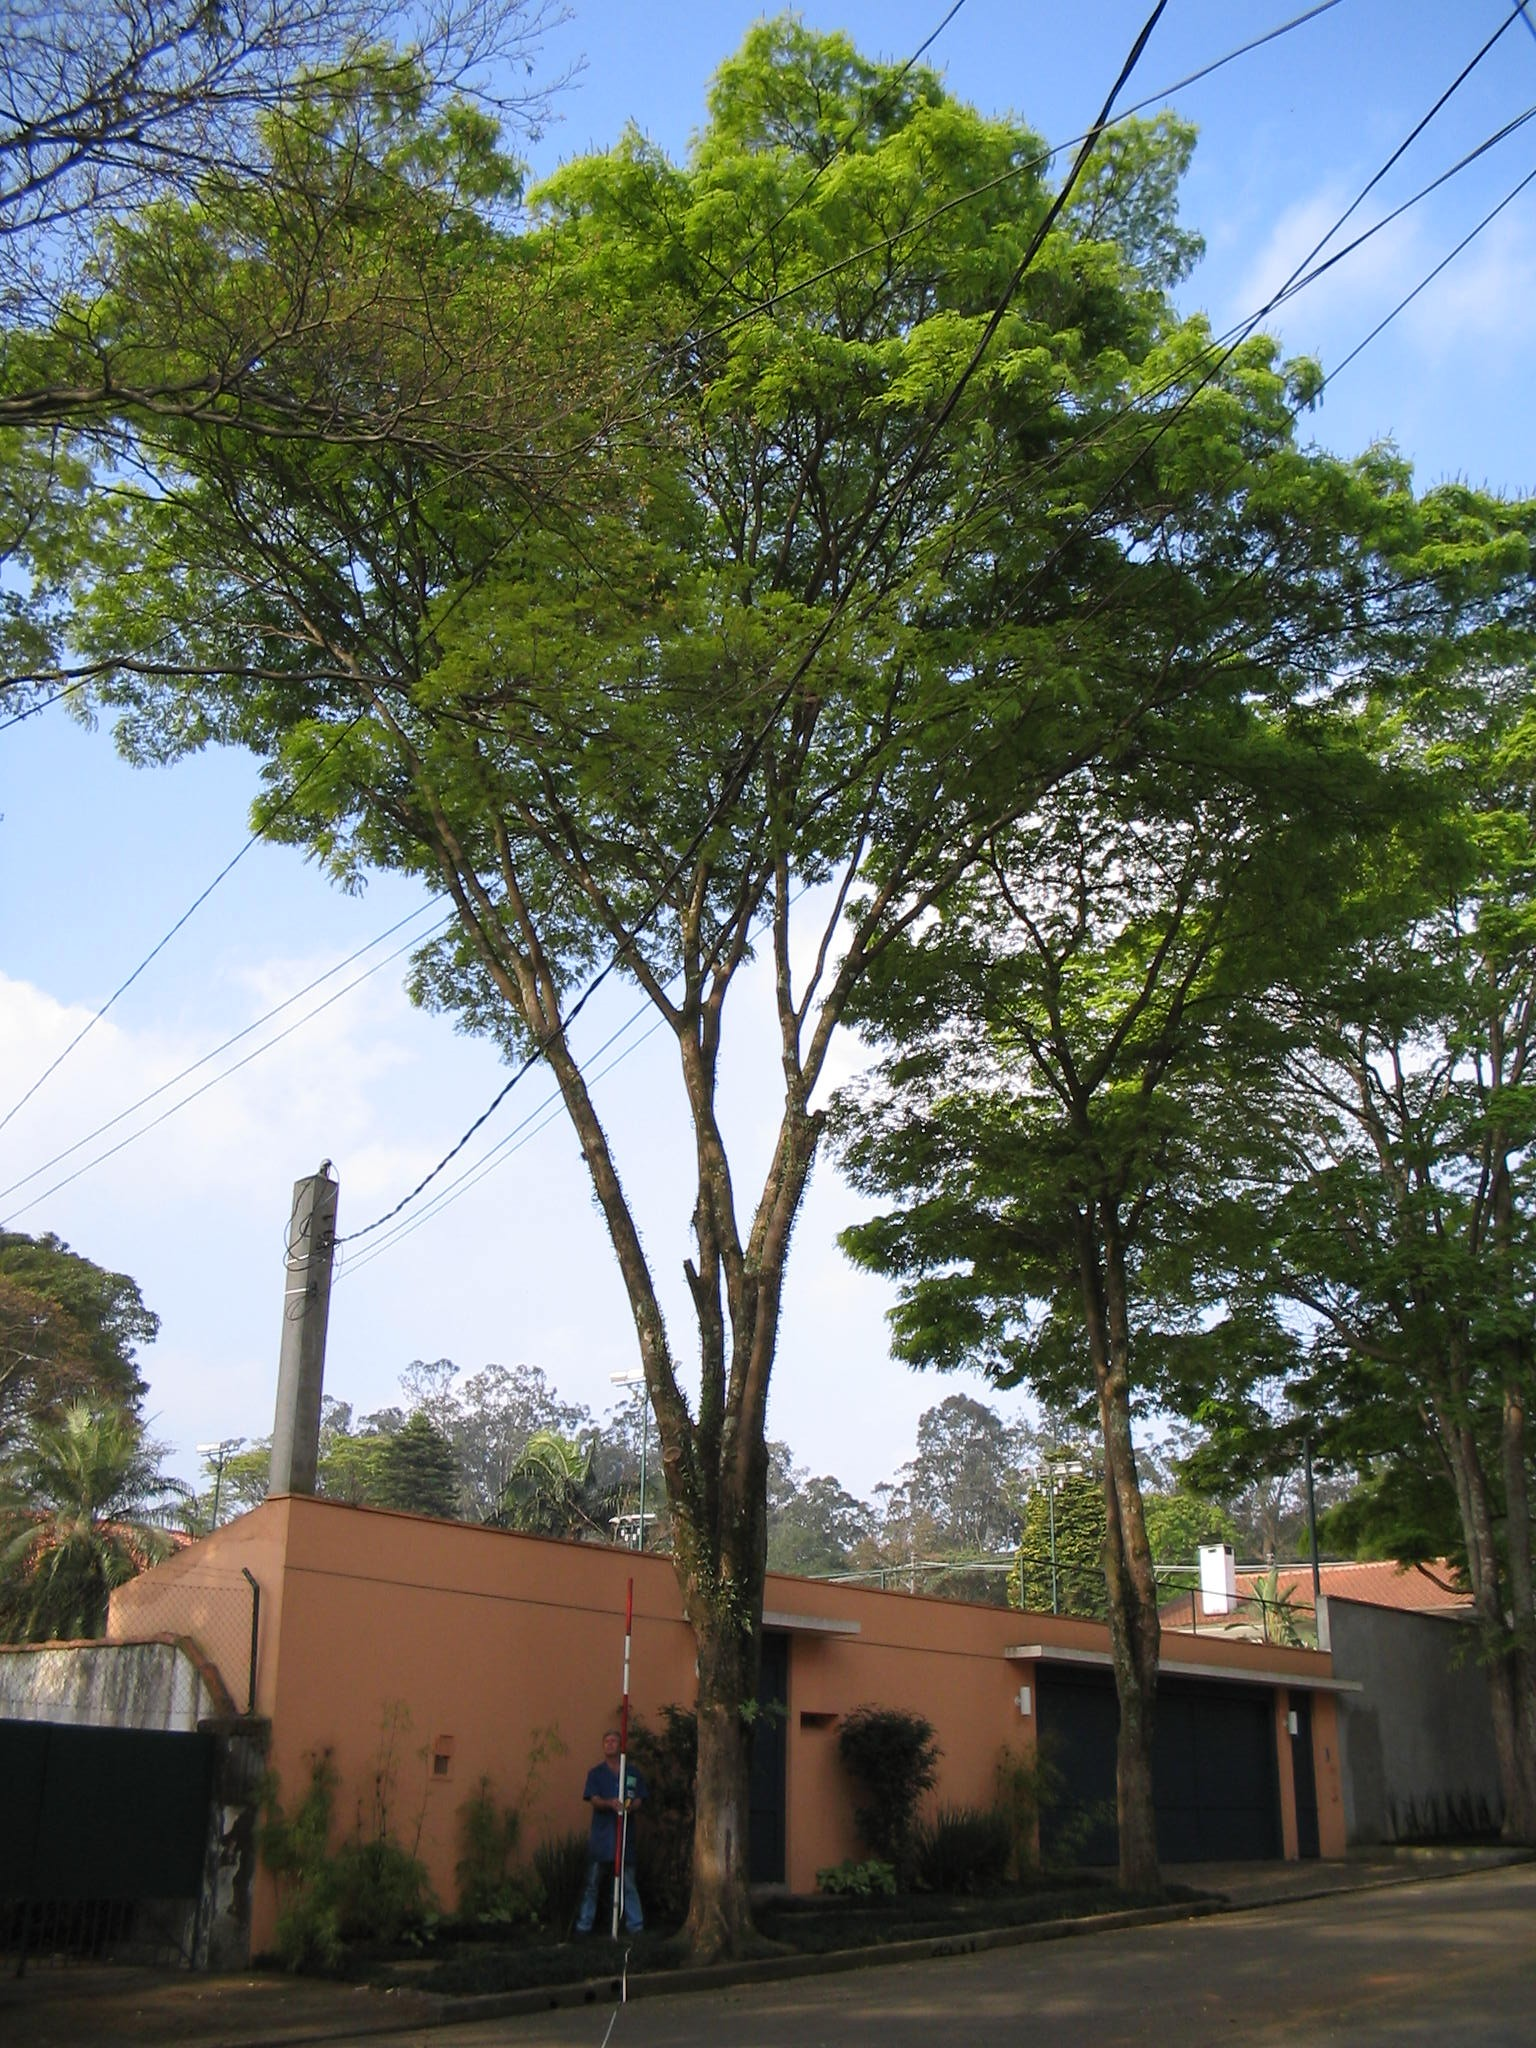crown: (15, 18, 1315, 1082), (850, 732, 1465, 1490)
stem: (641, 1596, 815, 1963), (1065, 1695, 1212, 1890)
stick: (587, 1574, 653, 1940)
tree: (10, 16, 1320, 1967), (836, 726, 1471, 1895)
